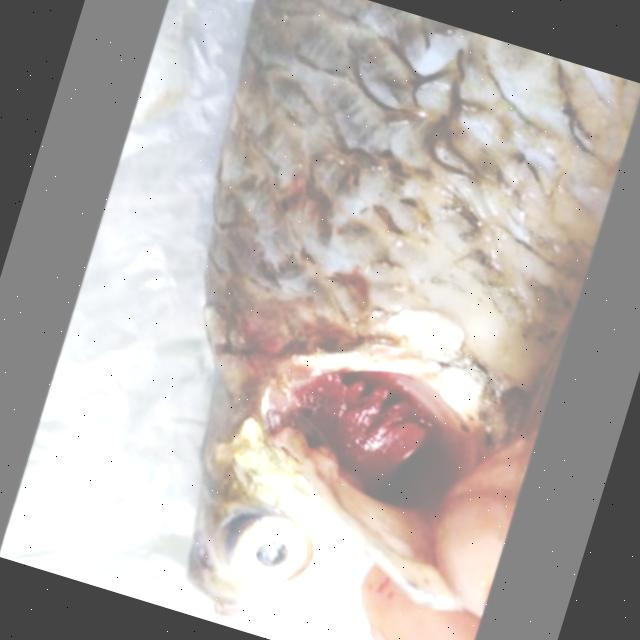Flavobacterium -Bacterial Gill Disease-: (187, 0, 640, 615)
